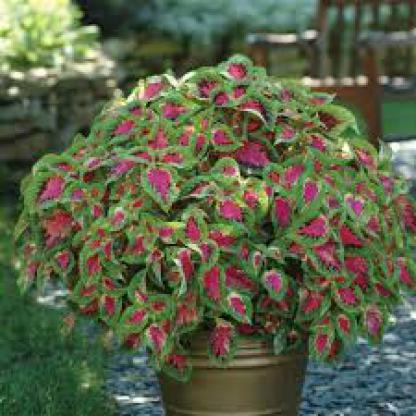Bunga Coleus: (58, 36, 408, 330)
